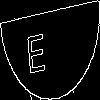E: (25, 24, 47, 74)
